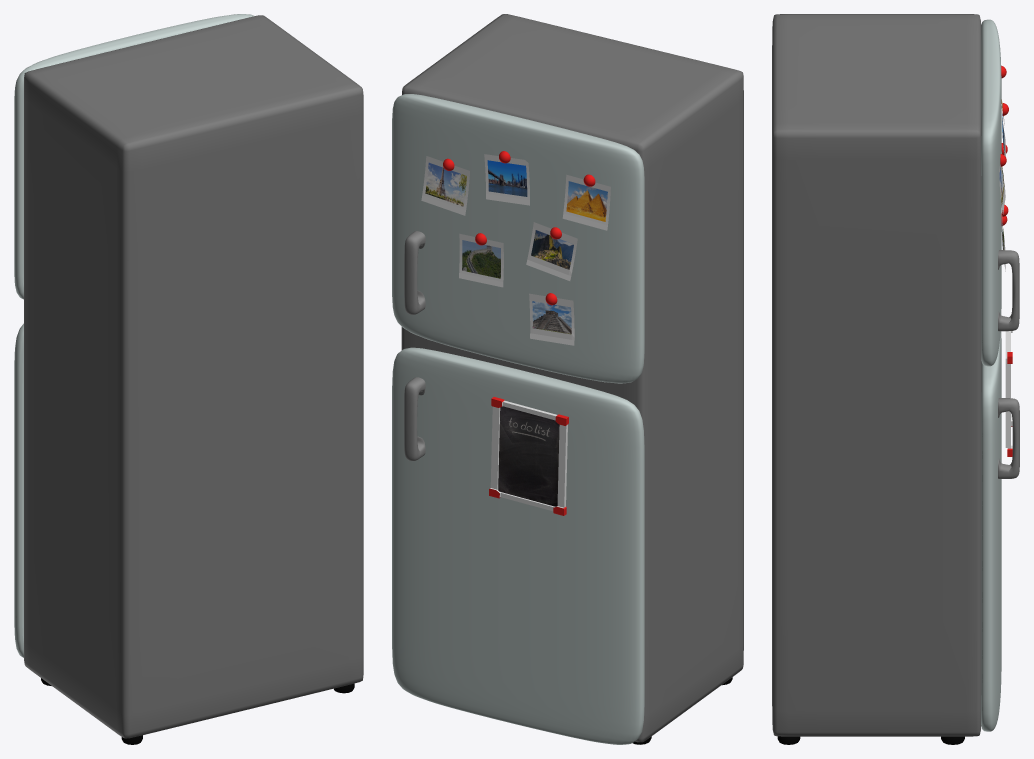
3 views of the same model, side by side, from view 1: azimuth 30°, elevation 25°; view 2: azimuth 150°, elevation 25°; view 3: azimuth 270°, elevation 25° (orthographic).
Parts seen in each view (by area): view 1: Main Body, Puerta Freezer, Puerta Refri; view 2: Main Body, Puerta Refri, Puerta Freezer, To Do List, Foto Paris, Foto Piramides, Foto Machu Pichu, Foto Chichen Itza, Foto Muralla China, Foto NYC, Mango Refri, Mango Freezer; view 3: Main Body, Puerta Refri, Puerta Freezer, Mango Freezer, Mango Refri, To Do List.
Boxes of the visible parts, x1,y1,x2,y2 form: Main Body: (24, 15, 363, 738); Puerta Freezer: (14, 14, 254, 299); Puerta Refri: (14, 323, 23, 657); Main Body: (401, 14, 743, 742); Puerta Refri: (392, 347, 644, 744); Puerta Freezer: (392, 94, 644, 383); To Do List: (489, 397, 568, 515); Foto Paris: (421, 156, 469, 215); Foto Piramides: (562, 174, 610, 230); Foto Machu Pichu: (526, 222, 577, 280); Foto Chichen Itza: (529, 293, 574, 345); Foto Muralla China: (459, 233, 503, 287); Foto NYC: (484, 154, 529, 205); Mango Refri: (404, 377, 425, 461); Mango Freezer: (404, 231, 425, 314); Main Body: (772, 14, 981, 736); Puerta Refri: (981, 331, 1001, 731); Puerta Freezer: (981, 19, 1001, 366); Mango Freezer: (998, 250, 1019, 331); Mango Refri: (998, 398, 1019, 478); To Do List: (1005, 331, 1012, 456).
Bounding box in the file's own units: 0.794 × 1.85 × 0.6741.
Materials: 13 (7 with a texture image).
